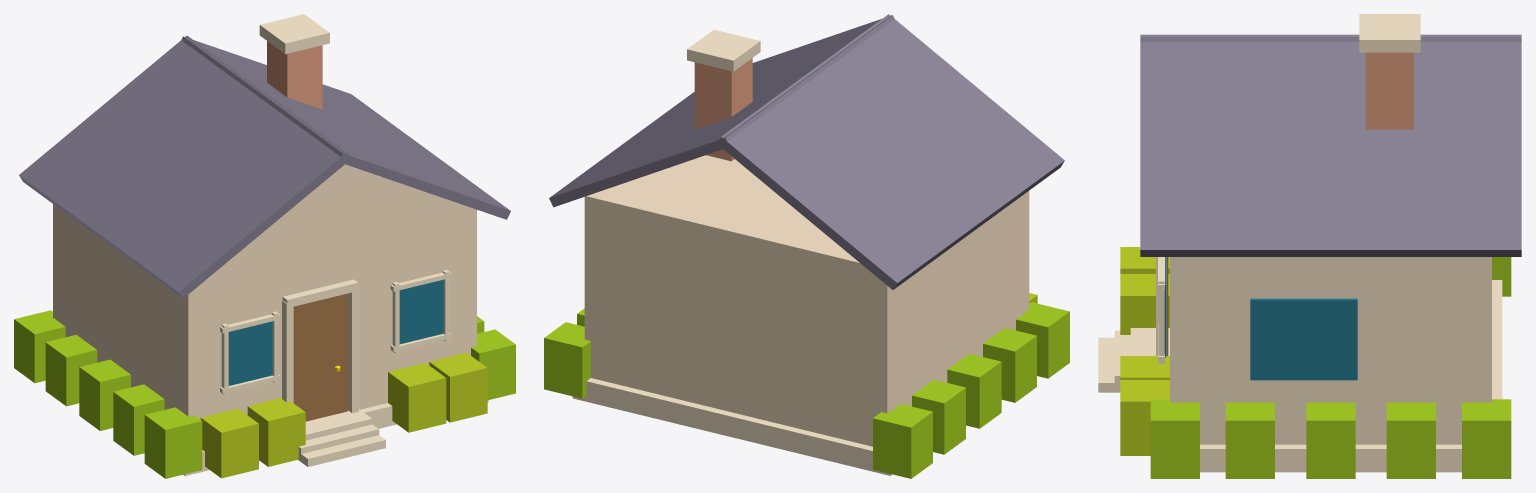
The model's file is House_Cream_Alternate.glb.
3 views of the same model, side by side, from view 1: azimuth 30°, elevation 25°; view 2: azimuth 150°, elevation 25°; view 3: azimuth 270°, elevation 25° (orthographic). The views are drawn at different scales.
Parts seen in each view (by area): view 1: House_Cream_Alternate; view 2: House_Cream_Alternate; view 3: House_Cream_Alternate.
Boxes of the visible parts, box(x1,y1,x2,y2) form: House_Cream_Alternate: box(14, 14, 515, 478); House_Cream_Alternate: box(544, 14, 1069, 478); House_Cream_Alternate: box(1098, 14, 1521, 478).
Size of the model in its own units: 4.49 by 4.02 by 3.94.
